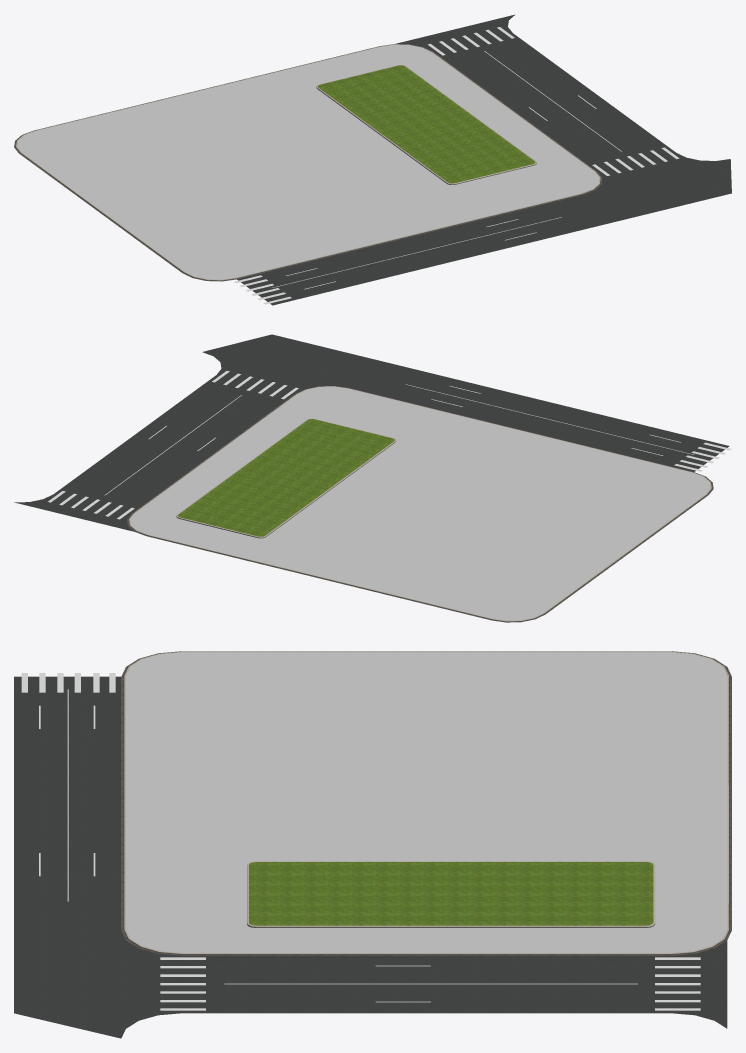
The model's file is New_Terrain_Area_11.fbx.
3 views of the same model, one above another, from view 1: azimuth 30°, elevation 25°; view 2: azimuth 150°, elevation 25°; view 3: azimuth 270°, elevation 25° (orthographic). The views are drawn at different scales.
Visible parts, largest first — view 1: Area_11, Road_26, Road_Alpha_29, Road_Alpha_32; view 2: Area_11, Road_26, Road_Alpha_29, Road_Alpha_32; view 3: Area_11, Road_26, Road_Alpha_29, Road_Alpha_32.
Boxes of the visible parts, x1,y1,x2,y2 form: Area_11: (14, 44, 602, 281); Road_26: (237, 14, 731, 305); Road_Alpha_29: (427, 27, 679, 175); Road_Alpha_32: (234, 217, 561, 304); Area_11: (127, 386, 713, 622); Road_26: (14, 334, 729, 531); Road_Alpha_29: (48, 371, 298, 519); Road_Alpha_32: (406, 384, 731, 471); Area_11: (121, 651, 731, 955); Road_26: (14, 676, 727, 1038); Road_Alpha_29: (160, 957, 700, 1010); Road_Alpha_32: (21, 673, 115, 901).
Size of the model in its own units: 7721 by 21.84 by 6048.
